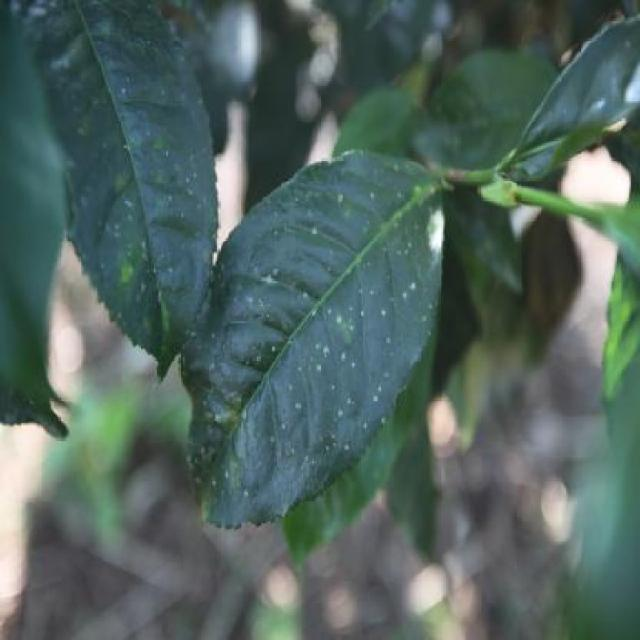White spot of tea: (183, 100, 443, 574)
